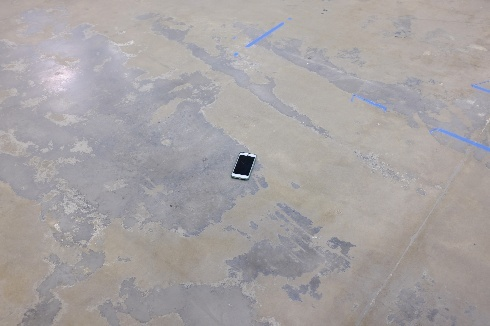phone: (220, 148, 270, 180)
